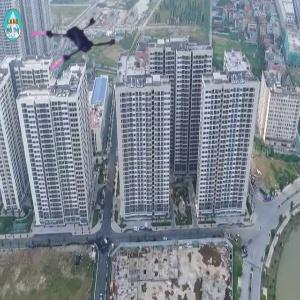drone: (31, 3, 118, 90)
